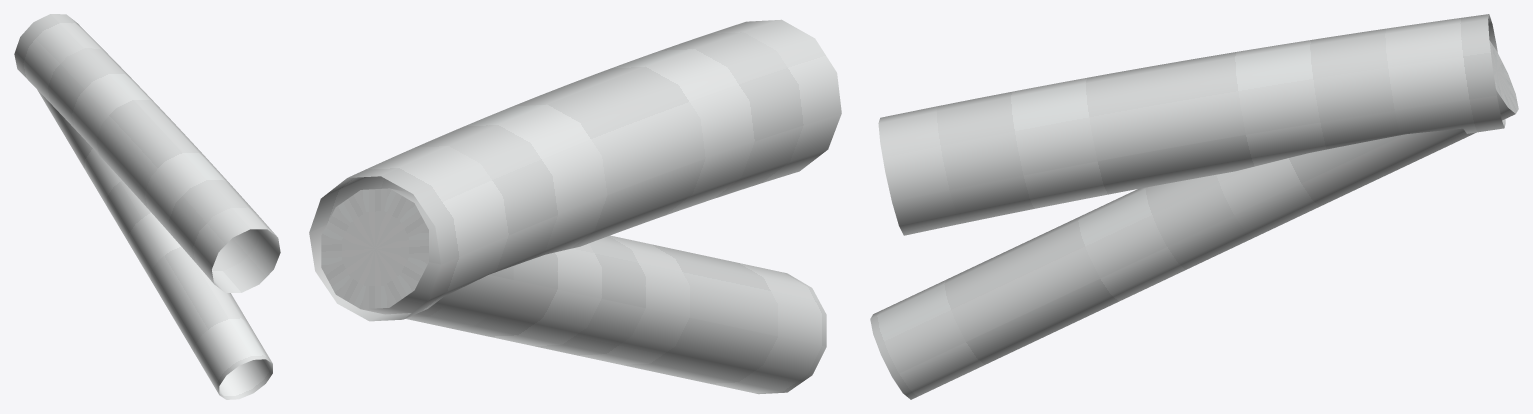
File: luminairearm_truss15ft_c7.obj
3 views of the same model, side by side, from view 1: azimuth 30°, elevation 25°; view 2: azimuth 150°, elevation 25°; view 3: azimuth 270°, elevation 25° (orthographic). The views are drawn at different scales.
Visible parts, largest first — view 1: luminairearm_truss15ft_c7; view 2: luminairearm_truss15ft_c7; view 3: luminairearm_truss15ft_c7.
Boxes of the visible parts, bbox=[...] form: luminairearm_truss15ft_c7: bbox=[14, 14, 280, 399]; luminairearm_truss15ft_c7: bbox=[309, 19, 841, 394]; luminairearm_truss15ft_c7: bbox=[870, 14, 1518, 399].
Bounding box in the file's own units: 0.2 × 0.6855 × 1.07.
